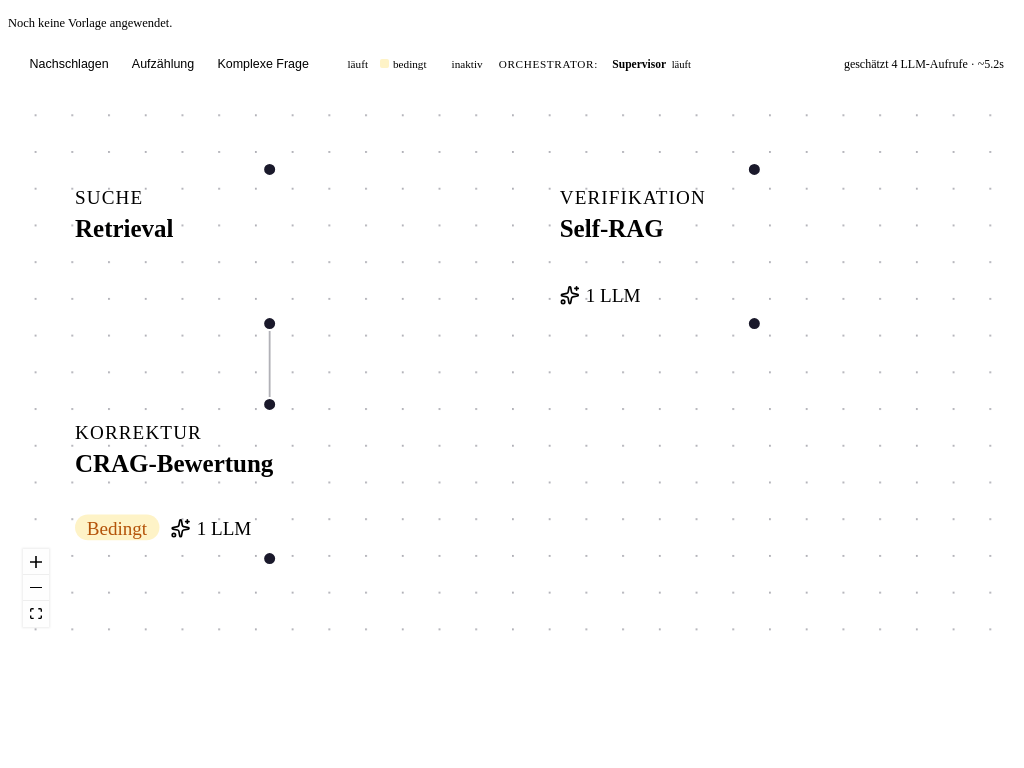
Scenario: WorkflowCanvas › save / reset / refetch › shows the save bar with a count once a field is edited
Click the element with test id "wf-node-crag_grade" at (176, 481), box [75,397,277,566]
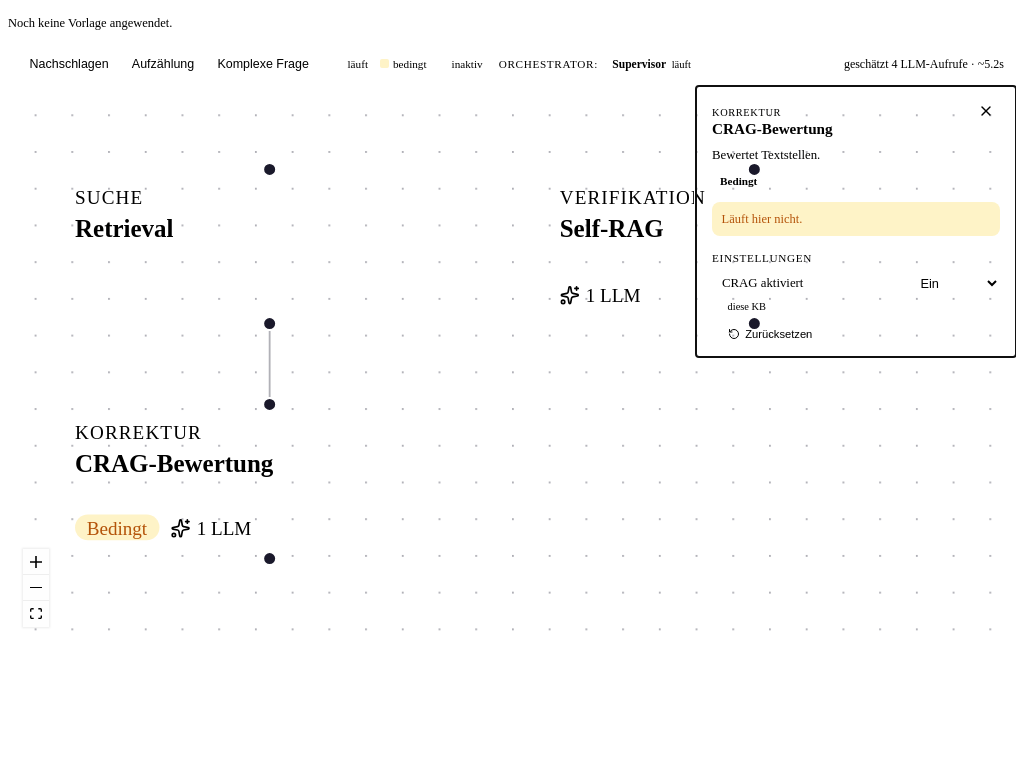
Select "Aus" in the dropdown labelled "CRAG aktiviert" at (955, 283), box [910,271,1000,296]
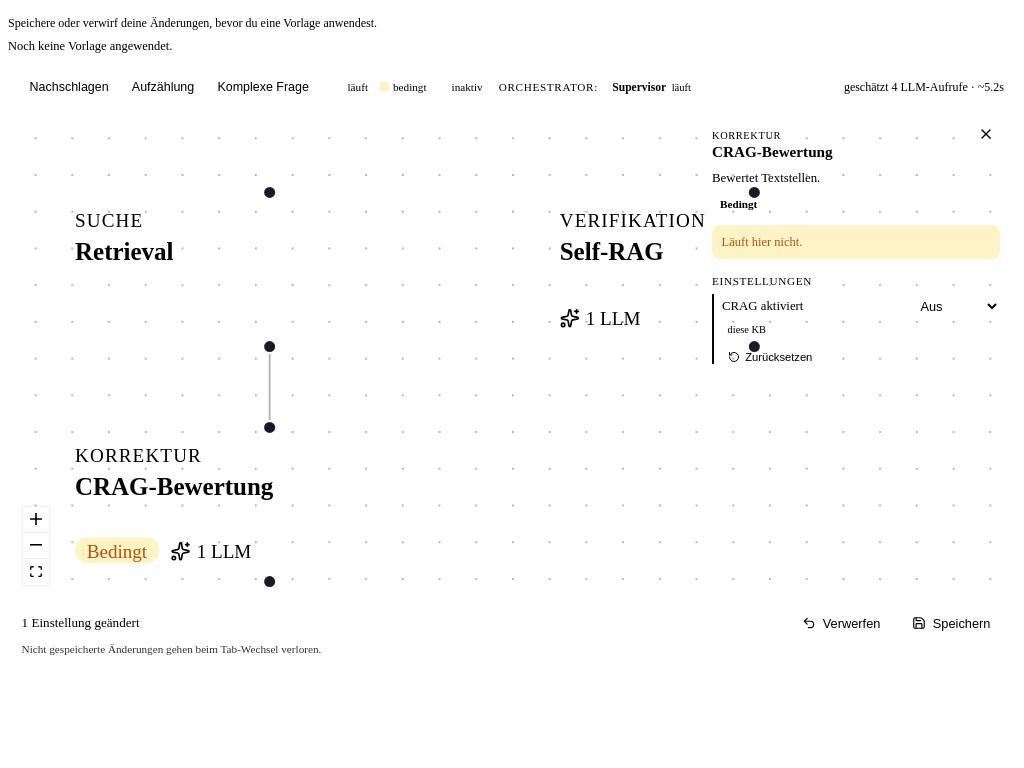
Expected: the text "1 Einstellung geändert" is shown, [22,615,140,631]
